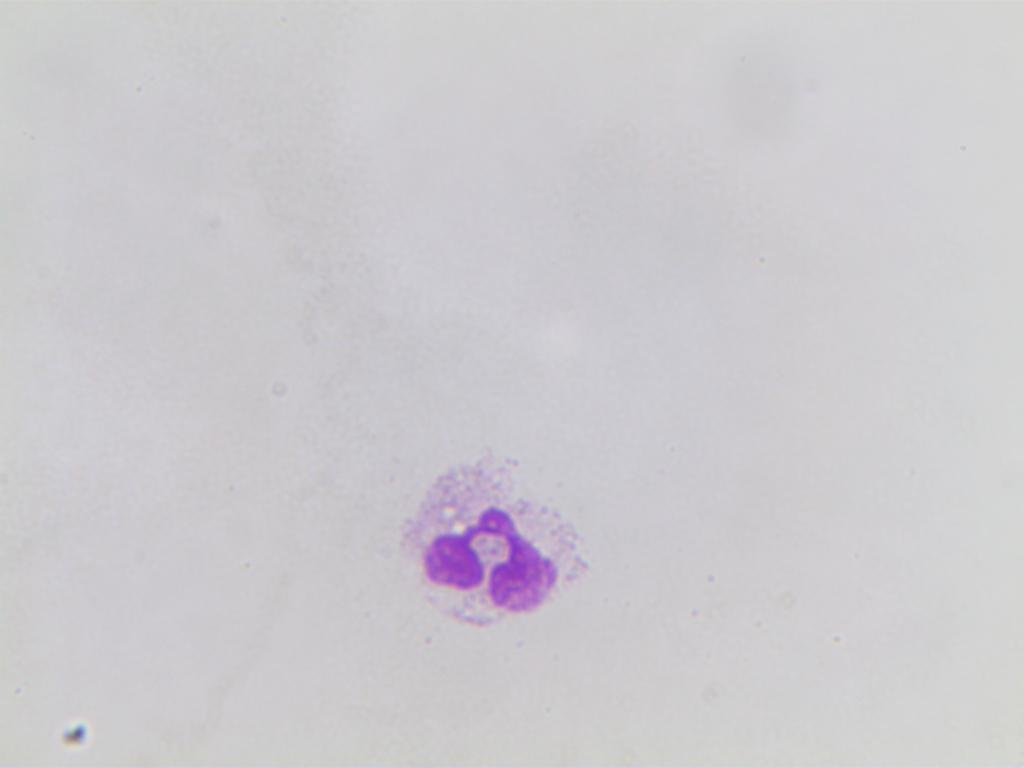neutrophil: (389, 453, 601, 626)
